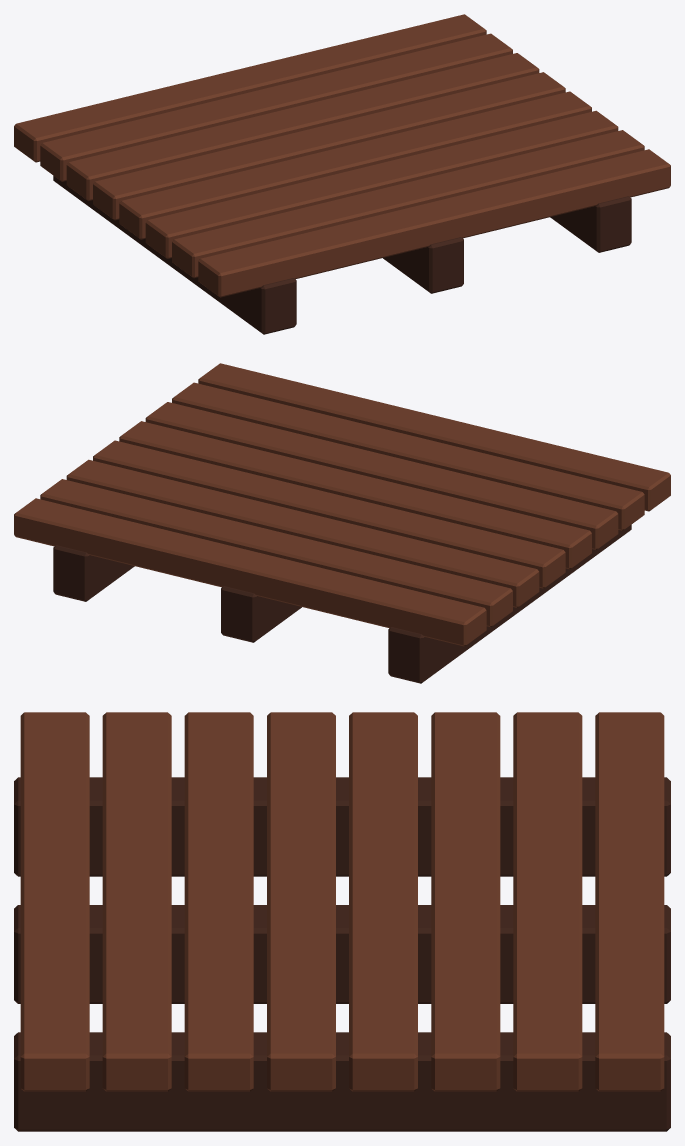
The model's file is grain_pallet.glb.
3 views of the same model, one above another, from view 1: azimuth 30°, elevation 25°; view 2: azimuth 150°, elevation 25°; view 3: azimuth 270°, elevation 25° (orthographic). The views are drawn at different scales.
Parts seen in each view (by area): view 1: Slat_00, Slat_02, Slat_05, Slat_04, Slat_07, Slat_06, Slat_01, Slat_03, Runner, Runner_002, Runner_001; view 2: Slat_07, Slat_05, Slat_02, Slat_00, Slat_03, Slat_01, Slat_04, Slat_06, Runner, Runner_002, Runner_001; view 3: Runner_002, Slat_00, Slat_01, Slat_02, Slat_05, Slat_06, Slat_07, Slat_03, Slat_04, Runner, Runner_001.
Part boxes in pixels (x1,y1,x2,y2): Slat_00: (198,149,670,297); Slat_02: (145,110,618,258); Slat_05: (66,53,539,200); Slat_04: (93,72,565,220); Slat_07: (14,14,486,162); Slat_06: (40,33,512,181); Slat_01: (172,130,644,278); Slat_03: (119,91,591,239); Runner: (53,175,296,334); Runner_002: (550,196,631,252); Runner_001: (383,237,463,293); Slat_07: (14,498,486,646); Slat_05: (66,459,539,607); Slat_02: (145,402,618,549); Slat_00: (198,363,670,511); Slat_03: (119,421,591,569); Slat_01: (172,382,644,530); Slat_04: (93,440,565,588); Slat_06: (40,479,512,627); Runner: (388,524,631,683); Runner_002: (53,545,134,601); Runner_001: (221,586,301,642); Runner_002: (14,1032,670,1131); Slat_00: (20,712,89,1091); Slat_01: (102,712,171,1091); Slat_02: (184,712,253,1091); Slat_05: (431,712,500,1091); Slat_06: (513,712,582,1091); Slat_07: (595,712,664,1091); Slat_03: (267,712,335,1091); Slat_04: (349,712,417,1091); Runner: (14,777,670,876); Runner_001: (14,905,670,1003).
Bounding box in the file's own units: 1.55 × 0.23 × 1.25.
